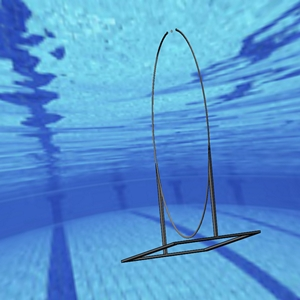circle: (119, 27, 262, 263)
